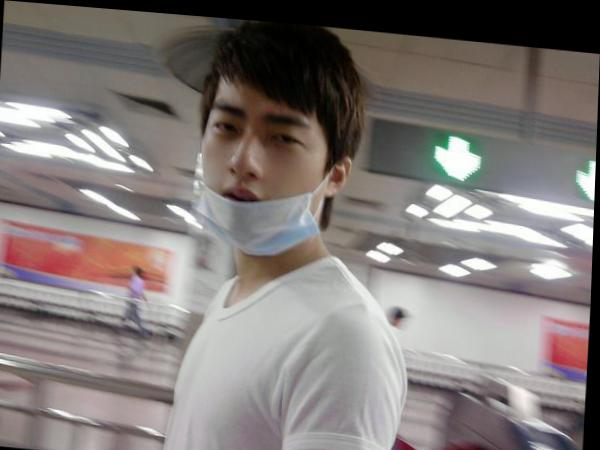WRONG: (191, 95, 336, 245)
